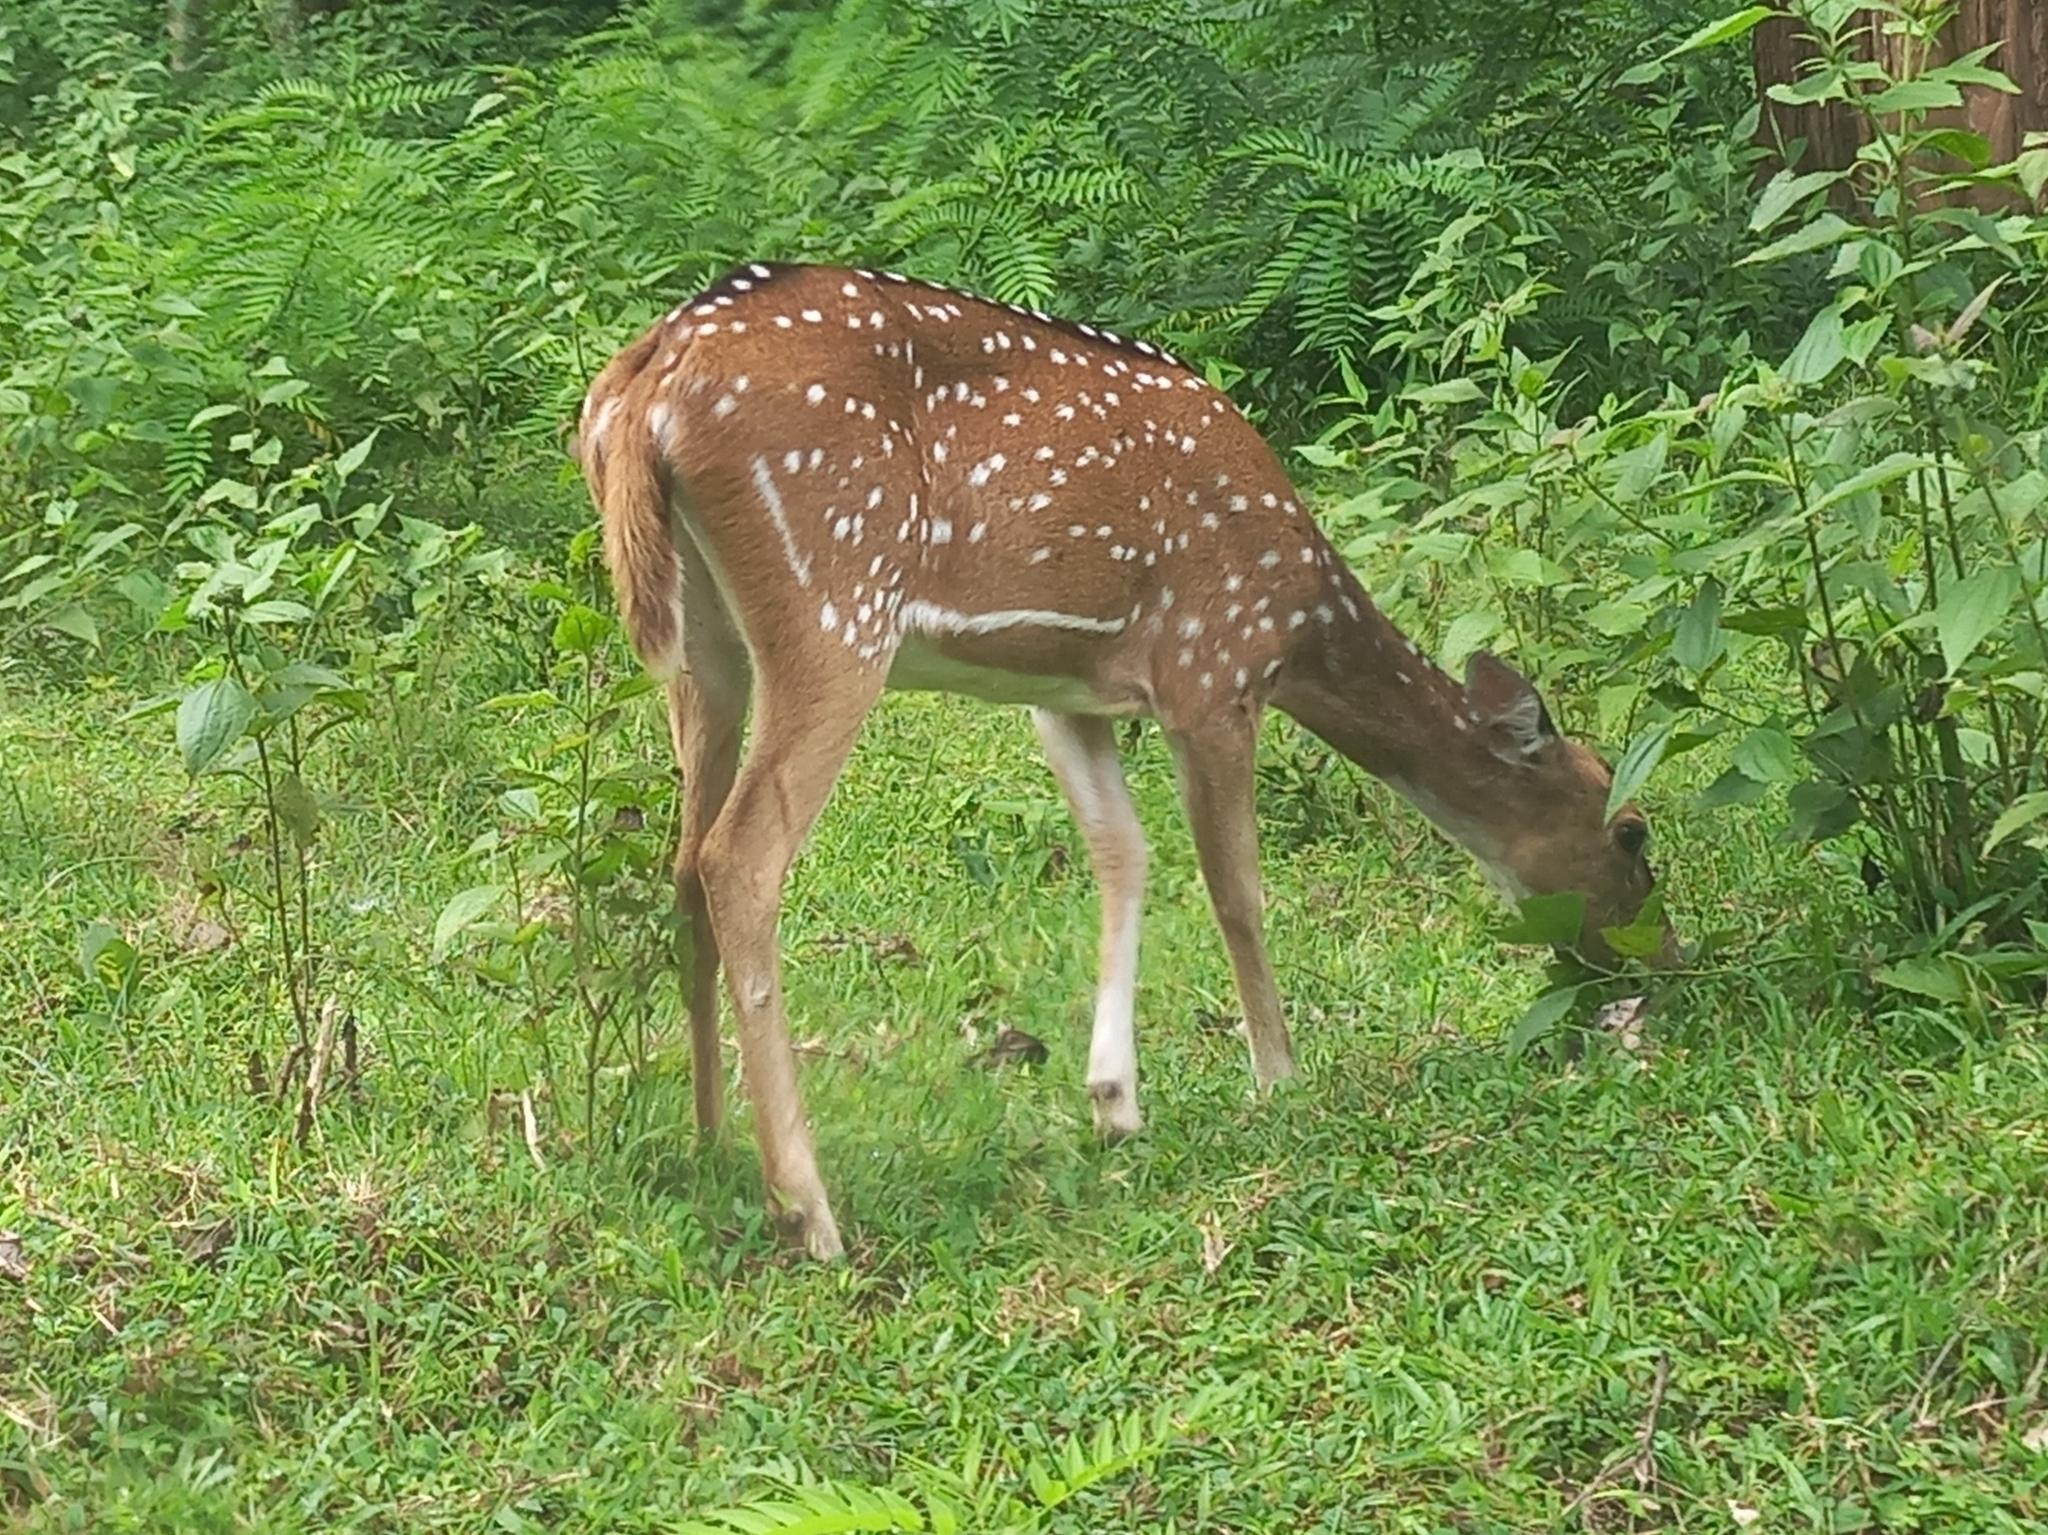Deer: (577, 263, 1651, 1256)
